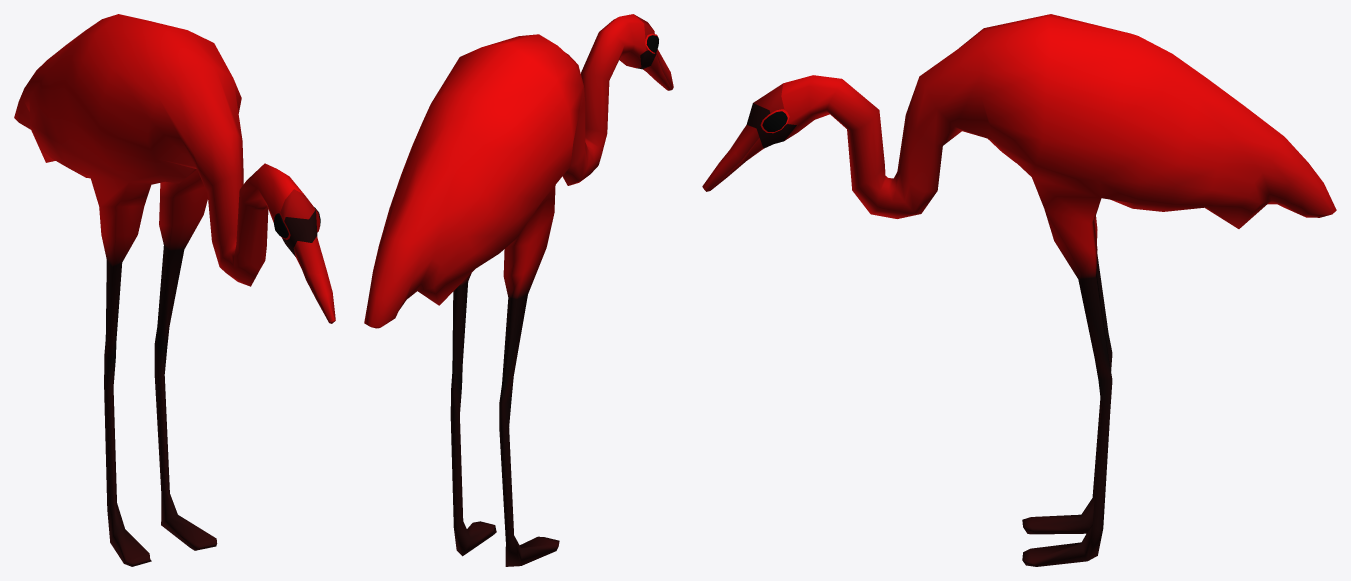
The model's file is BirdsUpright_Crane.fbx.
3 views of the same model, side by side, from view 1: azimuth 30°, elevation 25°; view 2: azimuth 150°, elevation 25°; view 3: azimuth 270°, elevation 25° (orthographic). The views are drawn at different scales.
Parts seen in each view (by area): view 1: base; view 2: base; view 3: base.
Part boxes in pixels (<box>): base: <box>14,14,335,566</box>; base: <box>364,14,673,566</box>; base: <box>702,14,1336,566</box>.
Bounding box in the file's own units: 34.92 × 132 × 144.
